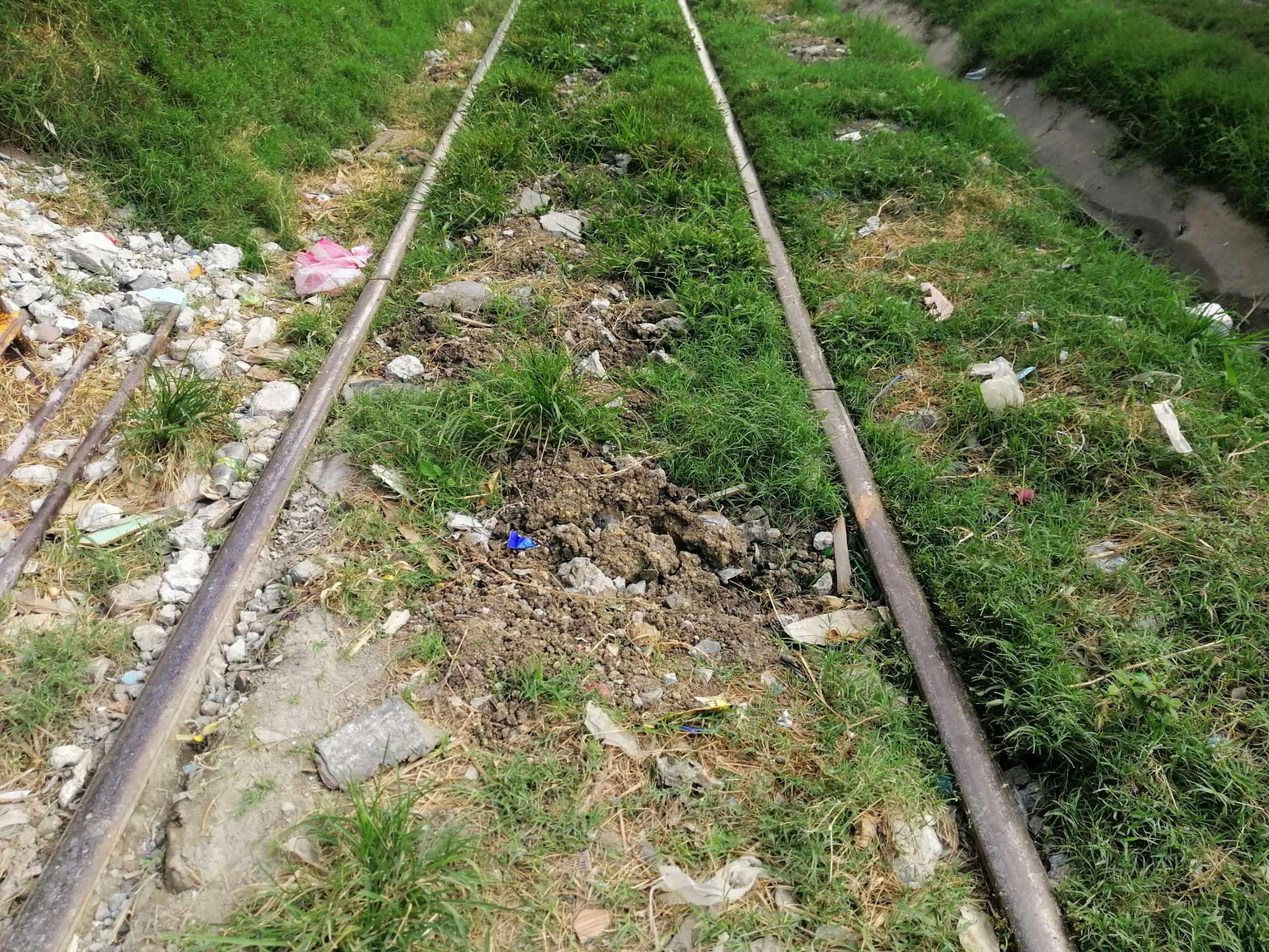railway-gap: (341, 242, 424, 320), (785, 353, 865, 426)
